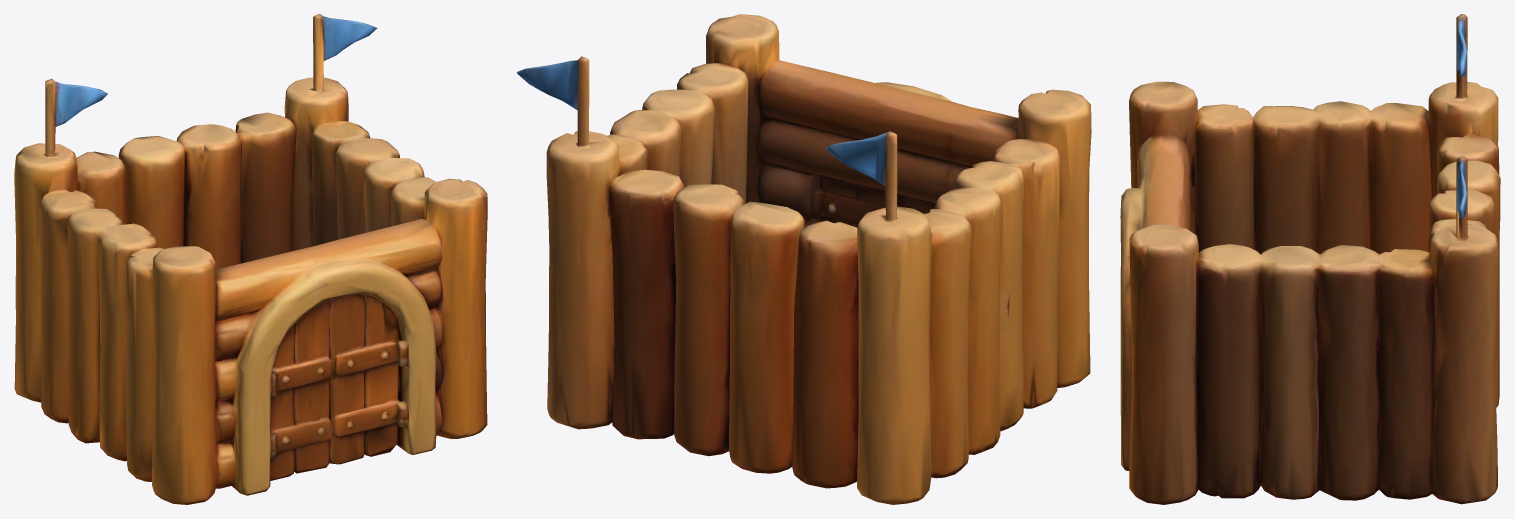
Rendered from stockade-fort.glb.
The picture shows the model from 3 angles, left to right: view 1: azimuth 30°, elevation 25°; view 2: azimuth 150°, elevation 25°; view 3: azimuth 270°, elevation 25°; orthographic projection. The views are drawn at different scales.
Parts seen in each view (by area): view 1: tripo_node_340486e8-0093-4261-9c3f-252eb95e1e3d; view 2: tripo_node_340486e8-0093-4261-9c3f-252eb95e1e3d; view 3: tripo_node_340486e8-0093-4261-9c3f-252eb95e1e3d.
Boxes of the visible parts, box(x1,y1,x2,y2) form: tripo_node_340486e8-0093-4261-9c3f-252eb95e1e3d: box(14, 14, 487, 504); tripo_node_340486e8-0093-4261-9c3f-252eb95e1e3d: box(516, 14, 1091, 504); tripo_node_340486e8-0093-4261-9c3f-252eb95e1e3d: box(1120, 14, 1500, 504).
Size of the model in its own units: 1 by 0.8246 by 0.8428.
1 material, 1 textured.
